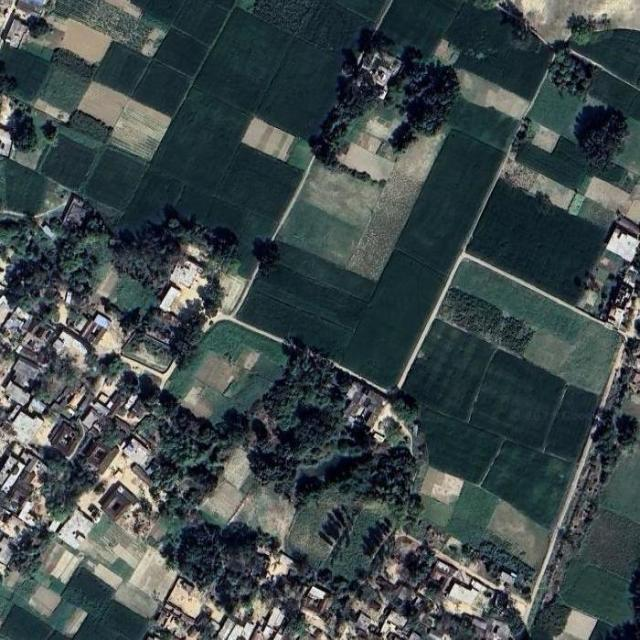land-Sx1C: (451, 258, 624, 398), (466, 177, 608, 306), (395, 129, 505, 278), (339, 251, 445, 391), (251, 38, 360, 147), (444, 1, 554, 102), (399, 319, 499, 423), (469, 349, 569, 453), (153, 89, 250, 191), (196, 9, 291, 111), (482, 440, 579, 531), (346, 170, 423, 281), (250, 259, 367, 331), (235, 293, 353, 364), (515, 136, 640, 196), (315, 503, 398, 592), (265, 238, 377, 302), (435, 287, 536, 355), (510, 0, 640, 51), (554, 558, 640, 632), (371, 0, 464, 67), (275, 200, 367, 267), (218, 145, 300, 220), (299, 158, 384, 230), (422, 407, 501, 483), (294, 1, 379, 67), (284, 500, 364, 570), (228, 477, 298, 553), (576, 505, 640, 585), (199, 321, 286, 379), (481, 502, 550, 571), (544, 383, 602, 465), (92, 256, 164, 321), (569, 28, 640, 90), (456, 67, 531, 123), (0, 159, 70, 216), (443, 481, 501, 549), (498, 159, 576, 209), (443, 100, 521, 149), (110, 99, 171, 160), (120, 173, 184, 231), (74, 516, 147, 566), (86, 149, 145, 209), (596, 444, 640, 524), (46, 14, 113, 64), (526, 78, 583, 136), (211, 369, 274, 419), (82, 0, 146, 49), (133, 61, 190, 116), (94, 41, 149, 95), (73, 600, 149, 639), (41, 135, 95, 189), (129, 548, 182, 602), (0, 47, 50, 102), (587, 69, 640, 119), (395, 128, 443, 183), (236, 213, 276, 278), (62, 567, 113, 616), (39, 65, 90, 113), (155, 29, 206, 76), (331, 144, 394, 182), (174, 0, 227, 45), (251, 0, 319, 35), (78, 81, 127, 127), (243, 120, 297, 161), (198, 481, 245, 526), (165, 353, 206, 399), (113, 582, 160, 622), (0, 605, 53, 640), (196, 351, 239, 394), (569, 193, 618, 230), (219, 446, 260, 490), (421, 466, 465, 505), (584, 177, 630, 213), (175, 186, 214, 224), (180, 380, 218, 418), (51, 47, 96, 79), (206, 199, 246, 235), (413, 493, 454, 528), (530, 605, 571, 640), (67, 110, 111, 142), (553, 610, 596, 640), (329, 0, 385, 21), (58, 124, 102, 150), (27, 583, 60, 617), (287, 138, 316, 173), (145, 0, 185, 24), (46, 602, 78, 632), (34, 98, 71, 122), (30, 27, 65, 50), (94, 563, 122, 590), (55, 0, 94, 19), (105, 0, 142, 19), (51, 549, 76, 576), (107, 560, 134, 580), (241, 350, 260, 370), (205, 0, 236, 10), (47, 631, 73, 640), (130, 0, 149, 10)
